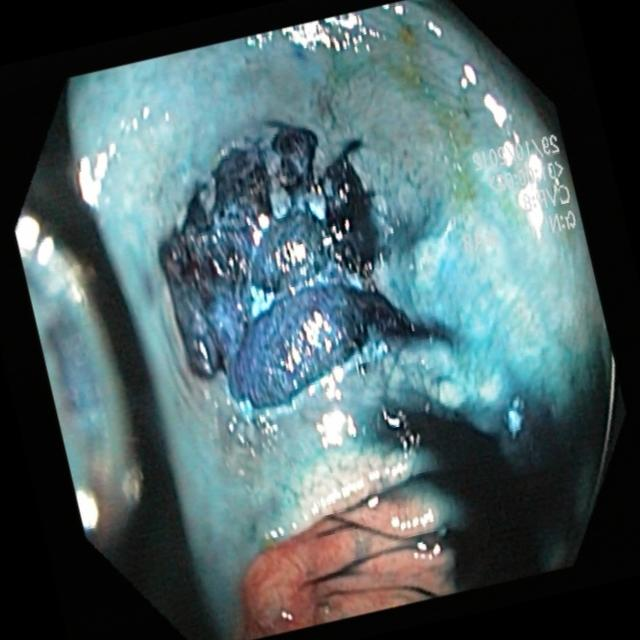dyed-resection-margins: (137, 108, 450, 432)
